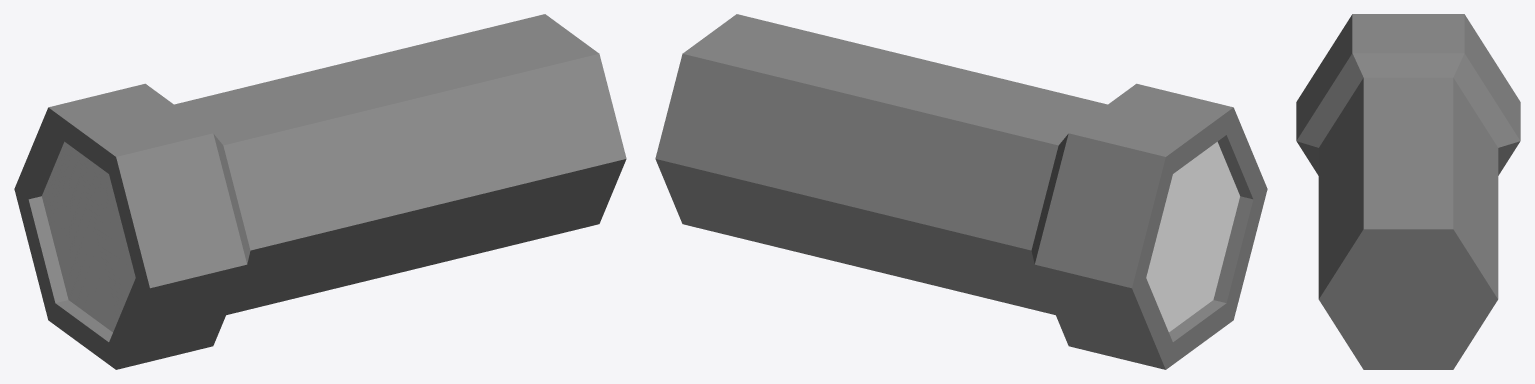
Rendered from FlashLight.fbx.
The picture shows the model from 3 angles, left to right: view 1: azimuth 30°, elevation 25°; view 2: azimuth 150°, elevation 25°; view 3: azimuth 270°, elevation 25°; orthographic projection. The views are drawn at different scales.
Parts seen in each view (by area): view 1: FlashLight; view 2: FlashLight; view 3: FlashLight.
Part boxes in pixels (x1=…): FlashLight: x1=14, y1=14, x2=626, y2=369; FlashLight: x1=655, y1=14, x2=1267, y2=369; FlashLight: x1=1296, y1=14, x2=1520, y2=369.
Bounding box in the file's own units: 521 × 216 × 250.
Materials: 1 (1 with a texture image).
